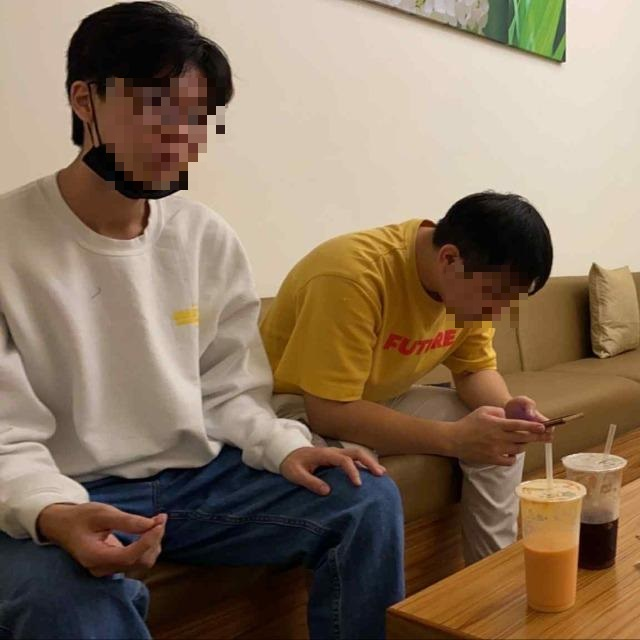NoHelmet: (62, 1, 234, 202), (434, 189, 554, 330)
NoVest: (0, 185, 263, 514)
